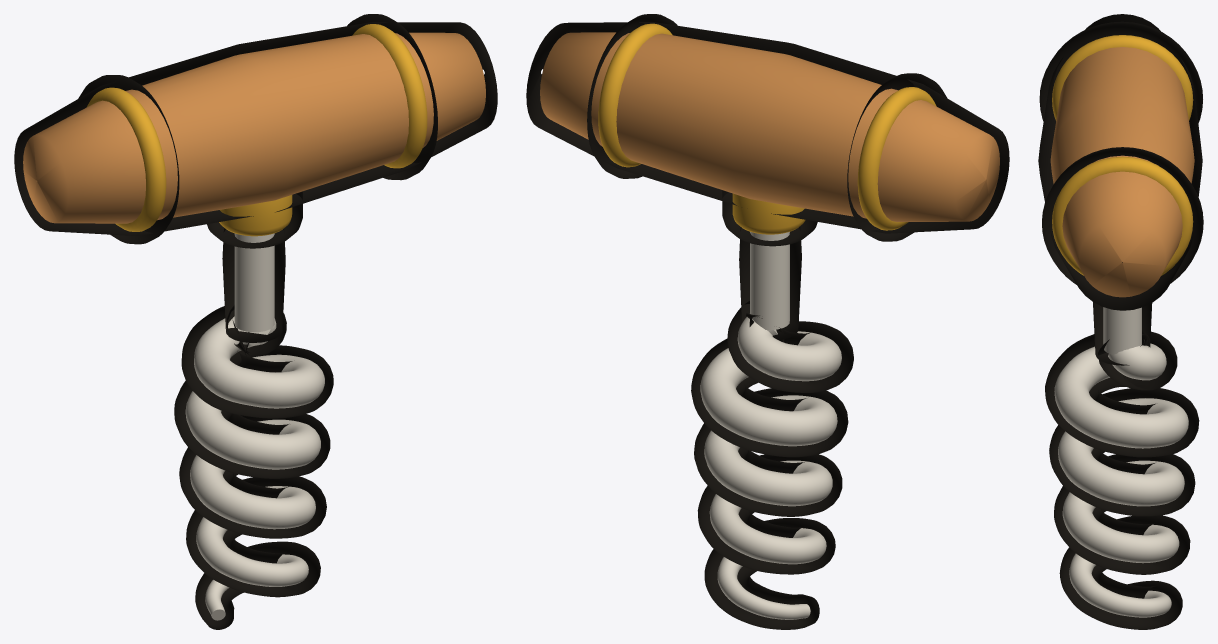
Rendered from corkscrew.glb.
3 renders of one model, left to right at view 1: azimuth 30°, elevation 25°; view 2: azimuth 150°, elevation 25°; view 3: azimuth 270°, elevation 25°, orthographic. The views are drawn at different scales.
Parts seen in each view (by area): view 1: Corkscrew, Corkscrew_outline; view 2: Corkscrew, Corkscrew_outline; view 3: Corkscrew, Corkscrew_outline.
Boxes of the visible parts, bbox=[...] form: Corkscrew: bbox=[23, 24, 485, 620]; Corkscrew_outline: bbox=[14, 14, 497, 629]; Corkscrew: bbox=[540, 23, 999, 619]; Corkscrew_outline: bbox=[526, 14, 1009, 629]; Corkscrew: bbox=[1050, 35, 1194, 617]; Corkscrew_outline: bbox=[1038, 14, 1203, 629].
Size of the model in its own units: 1.05 by 1.26 by 0.3441.
